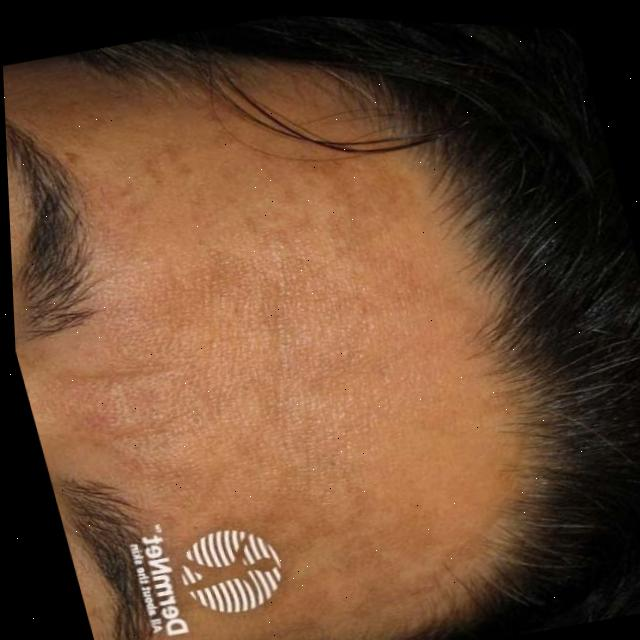Melasma: (43, 66, 580, 640)
